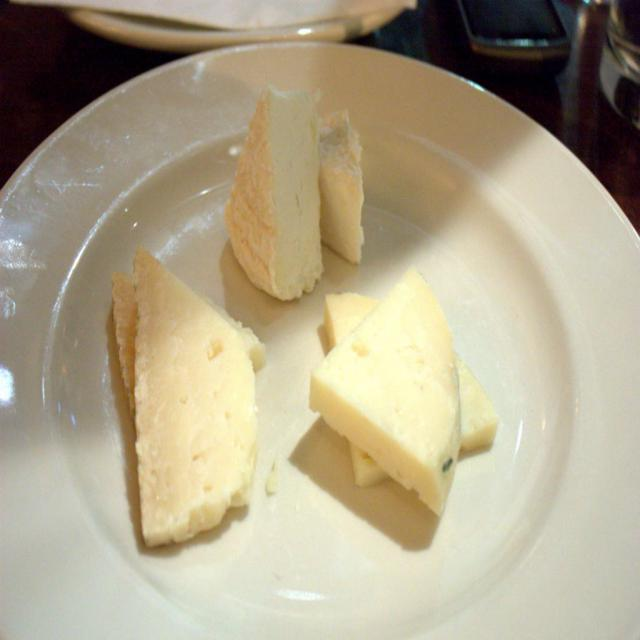Cheese: (304, 262, 465, 516), (137, 244, 259, 548), (323, 287, 501, 487), (218, 82, 320, 298), (114, 267, 265, 379), (315, 112, 365, 262)
